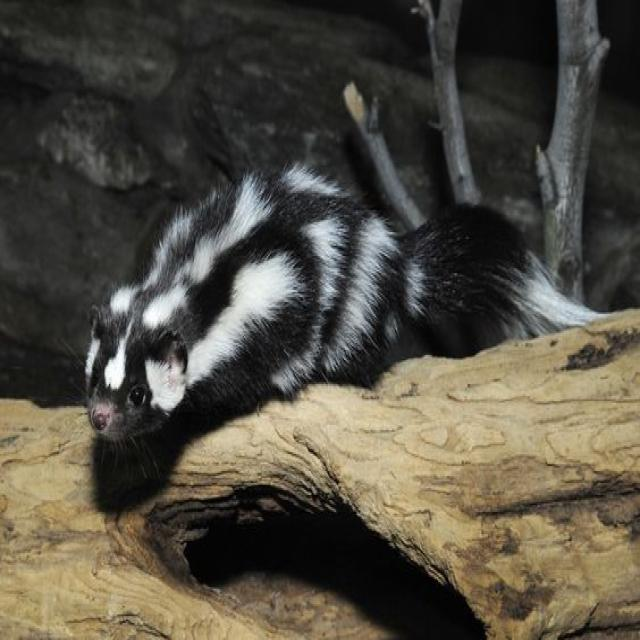Skunk: (73, 122, 394, 505)
